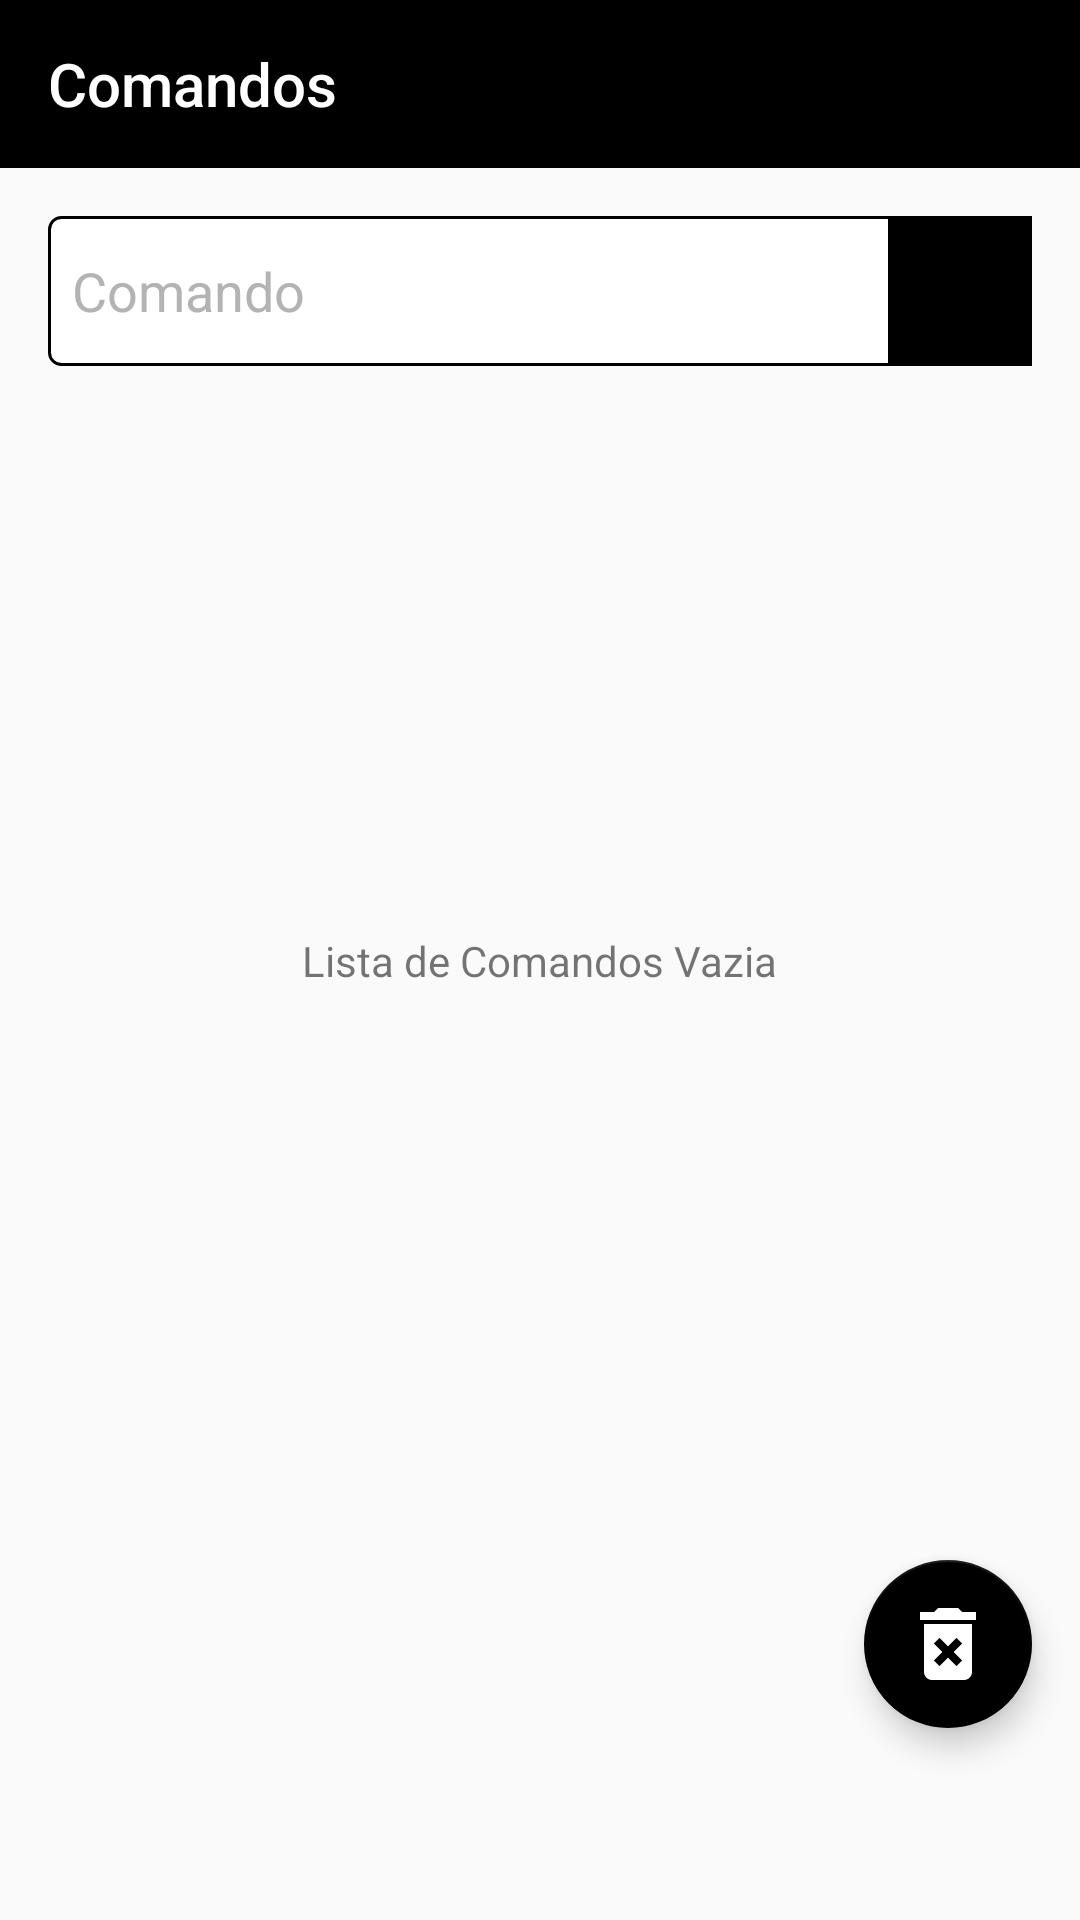

Point at icon controls on the screen. Image size 1080 × 1920, points as (x,y).
Limpar: (948,1644)
